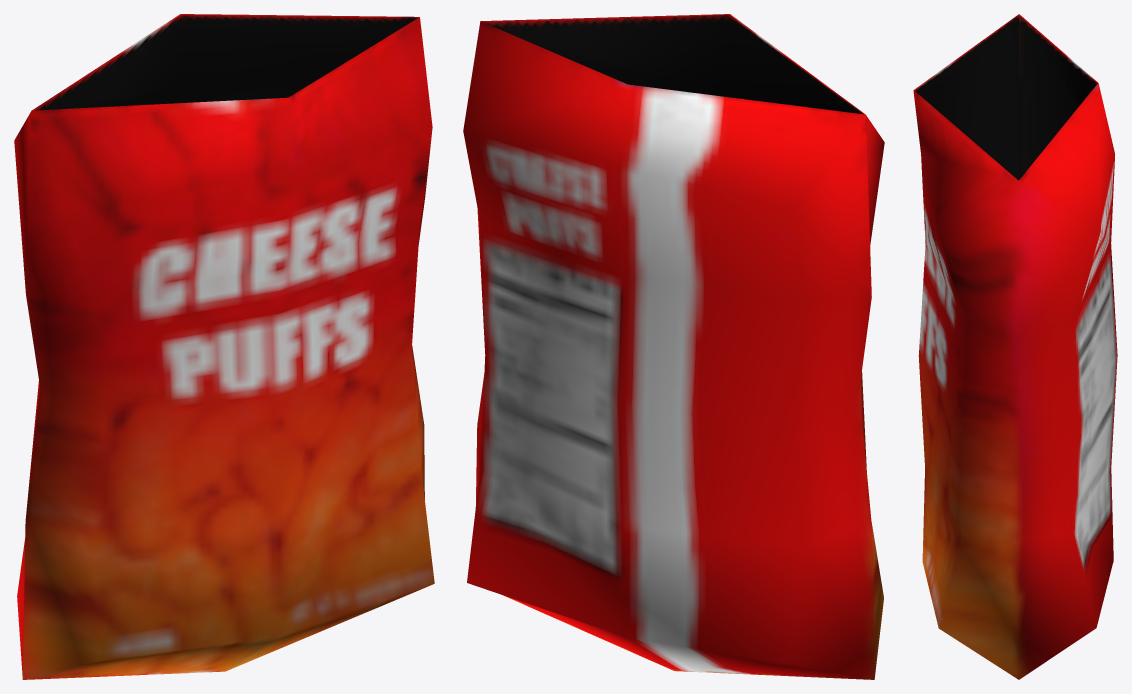
File: esya_cips_large_open_a.glb
3 renders of one model, left to right at view 1: azimuth 30°, elevation 25°; view 2: azimuth 150°, elevation 25°; view 3: azimuth 270°, elevation 25°, orthographic. The views are drawn at different scales.
Parts seen in each view (by area): view 1: Large_Open_A; view 2: Large_Open_A; view 3: Large_Open_A.
Boxes of the visible parts, bbox=[...] form: Large_Open_A: bbox=[14, 14, 434, 679]; Large_Open_A: bbox=[463, 14, 884, 679]; Large_Open_A: bbox=[913, 14, 1117, 679].
Size of the model in its own units: 2.68 by 3.96 by 1.34.
1 material, 1 textured.
